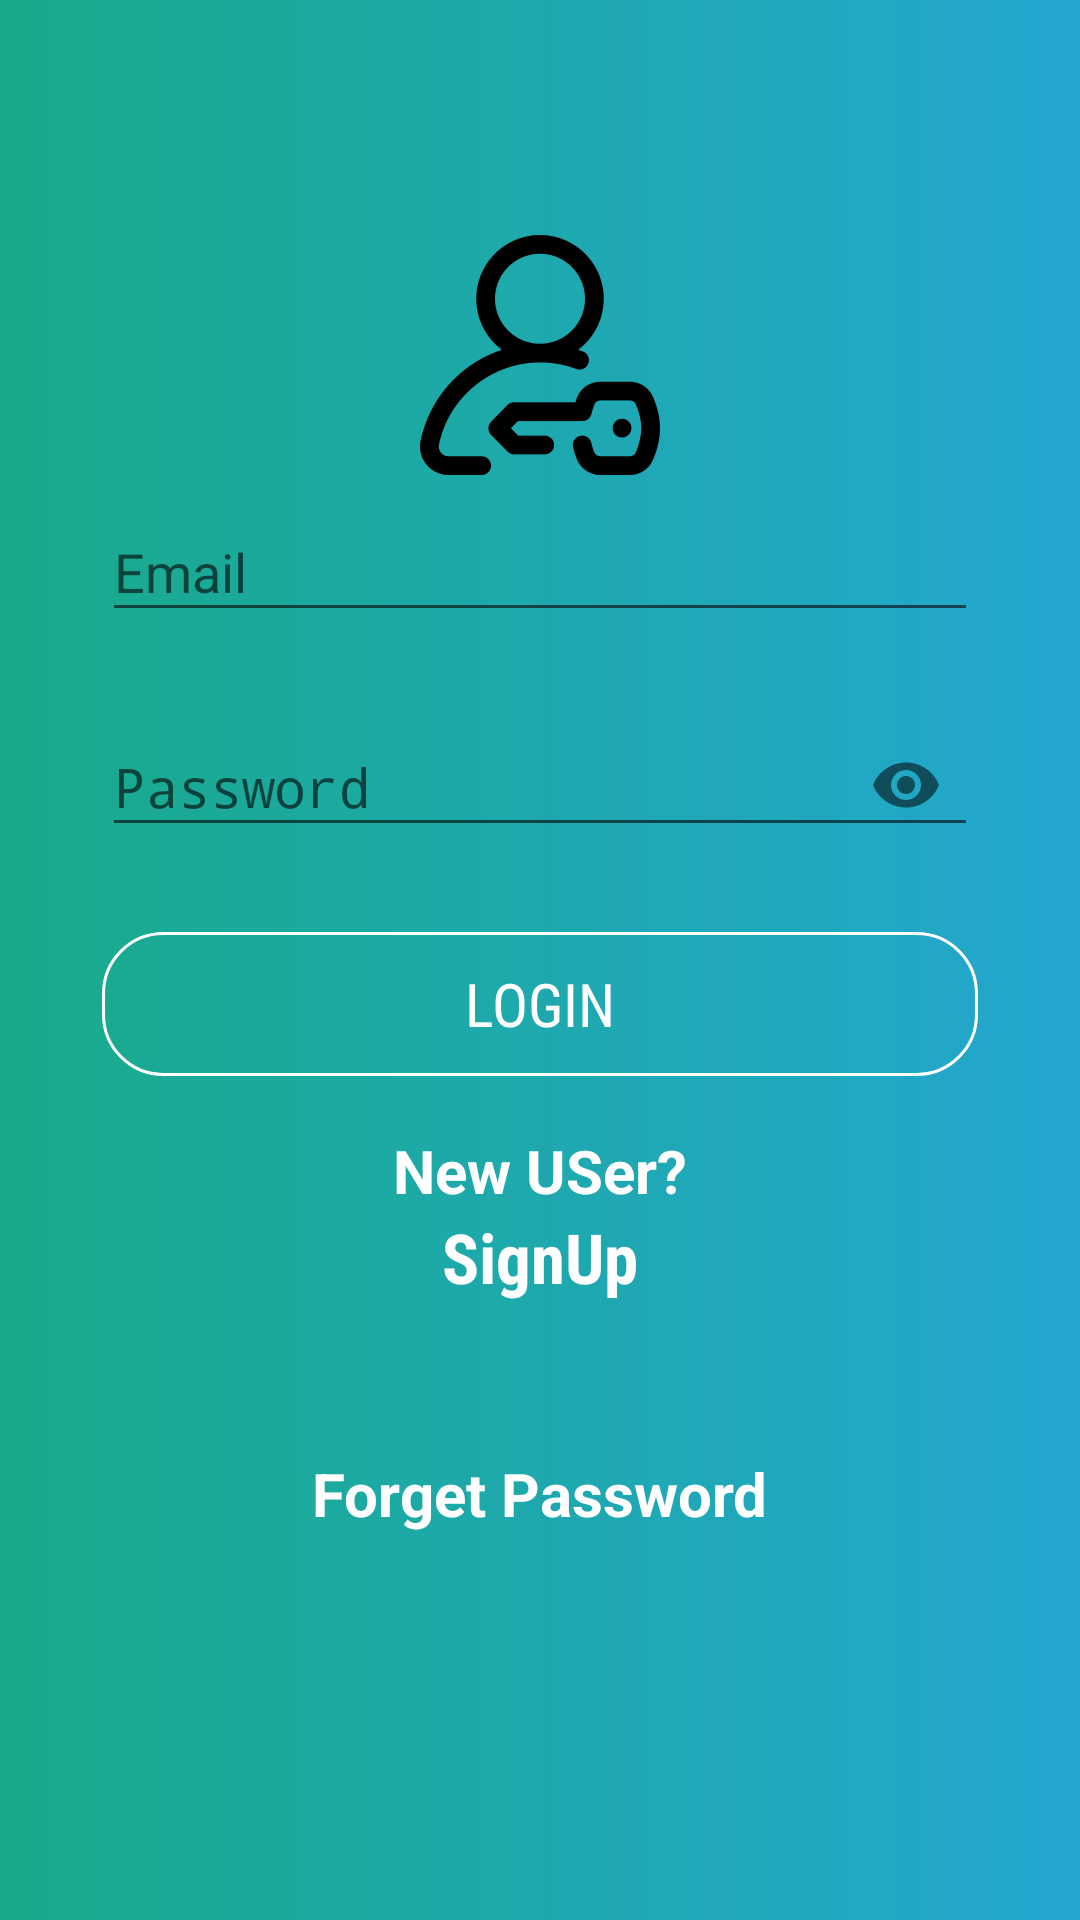

Icons on this 1080w x 1920h Android screen, each with the point to tap as point (x, y):
login: point (570, 355)
